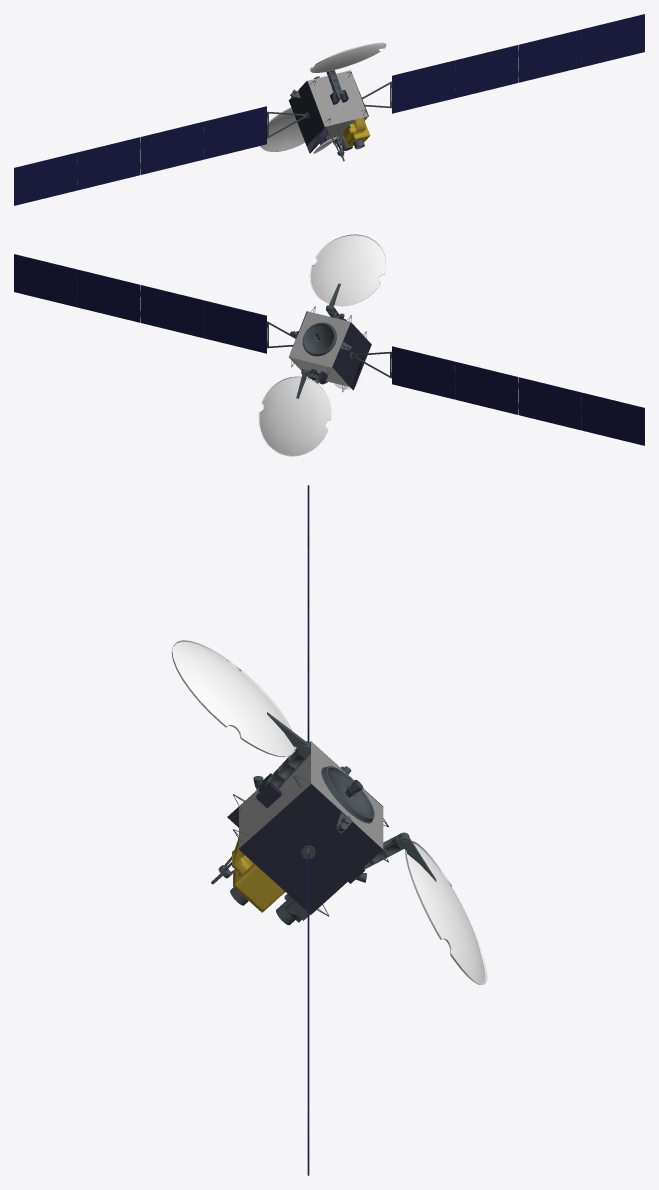
The model's file is satellite.obj.
The picture shows the model from 3 angles, top to bottom: view 1: azimuth 30°, elevation 25°; view 2: azimuth 150°, elevation 25°; view 3: azimuth 270°, elevation 25°; orthographic projection. The views are drawn at different scales.
Parts seen in each view (by area): view 1: satellite.003_satellite.007; view 2: satellite.003_satellite.007; view 3: satellite.003_satellite.007.
Part boxes in pixels (left/top/right/bottom): satellite.003_satellite.007: left=14, top=14, right=644, bottom=205; satellite.003_satellite.007: left=14, top=234, right=644, bottom=456; satellite.003_satellite.007: left=171, top=485, right=487, bottom=1175.
Size of the model in its own units: 1.12 by 0.2758 by 0.2424.
